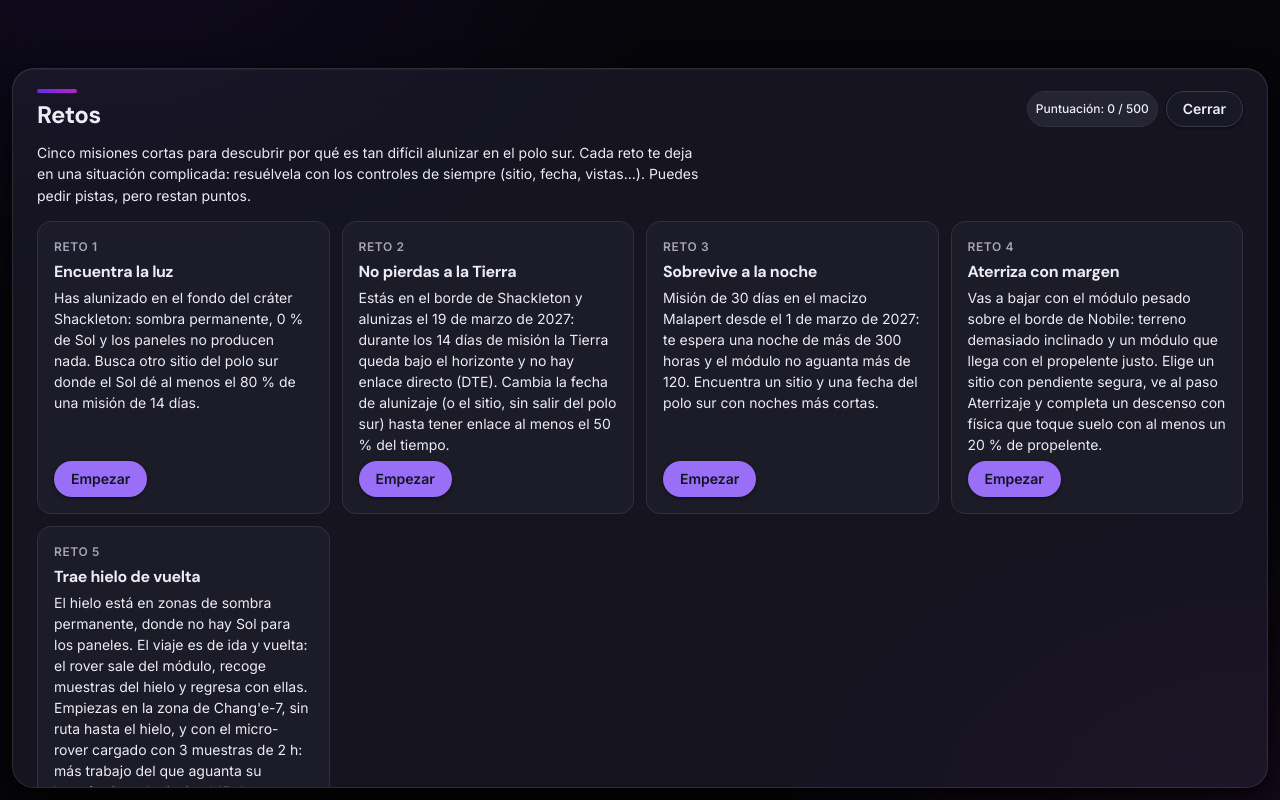
Test case: playing a challenge › the landing challenge starts unsolved with the heavy lander on steep ground
The image size is (1280, 800).
Click the button "Empezar" below "Reto 4" at (1014, 479), box [968,461,1061,497]
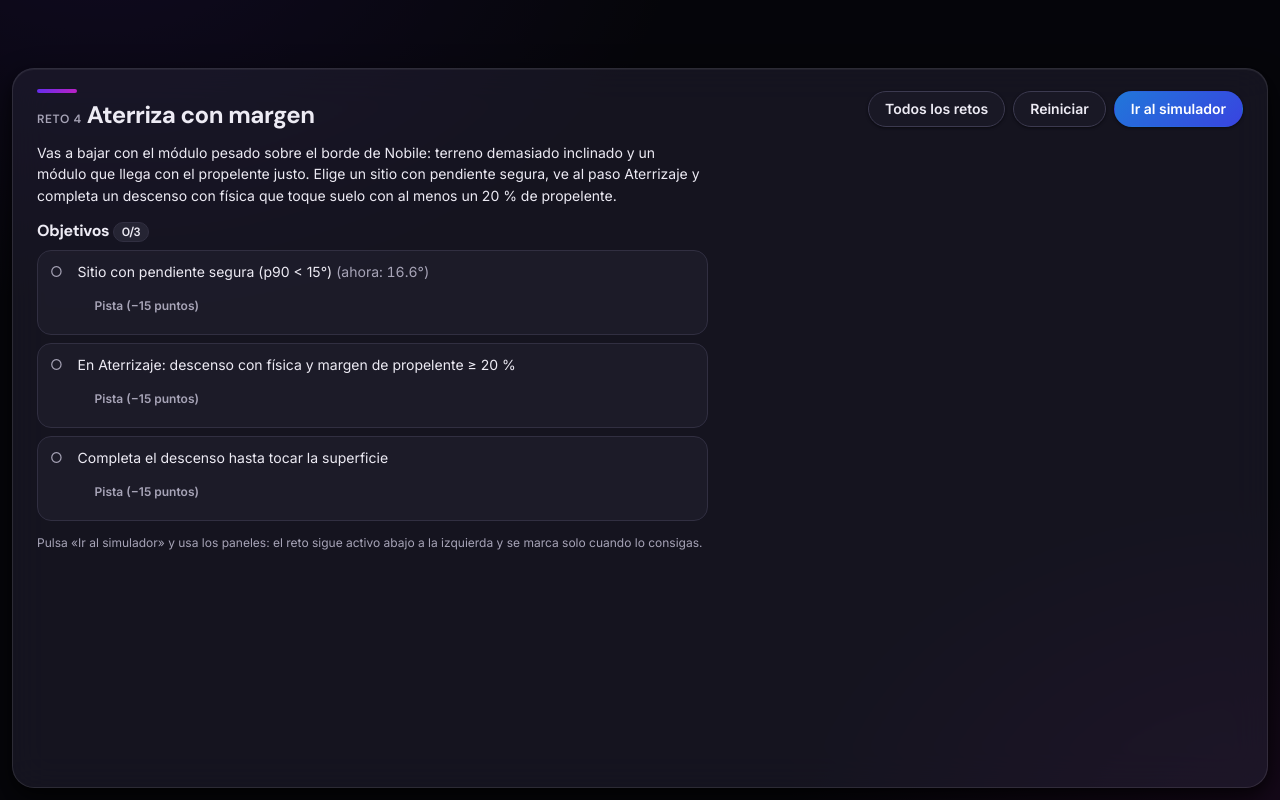
Now the text "(ahora: 16.6°)" is shown, box [332,263,429,280]
